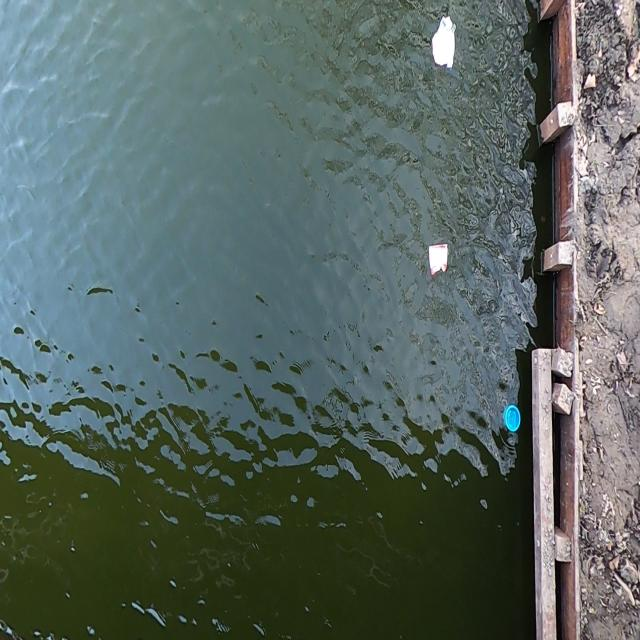Autre plastique: (504, 403, 523, 437)
